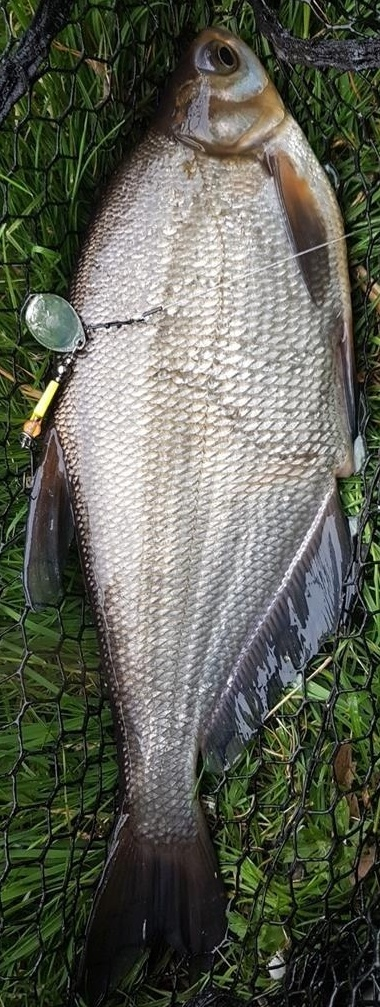Abramis brama: (20, 20, 360, 987)
